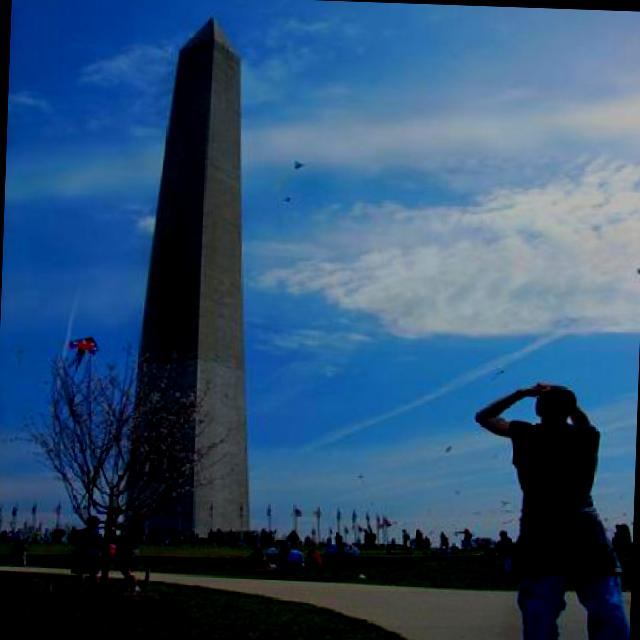Person: (463, 380, 638, 640), (0, 511, 497, 584), (109, 506, 146, 593), (70, 516, 102, 594), (273, 544, 308, 570), (612, 522, 633, 564), (495, 530, 514, 574), (452, 526, 478, 550), (343, 543, 361, 562), (306, 550, 324, 568), (336, 543, 346, 565), (18, 540, 26, 565), (43, 526, 51, 543), (439, 532, 444, 548)
